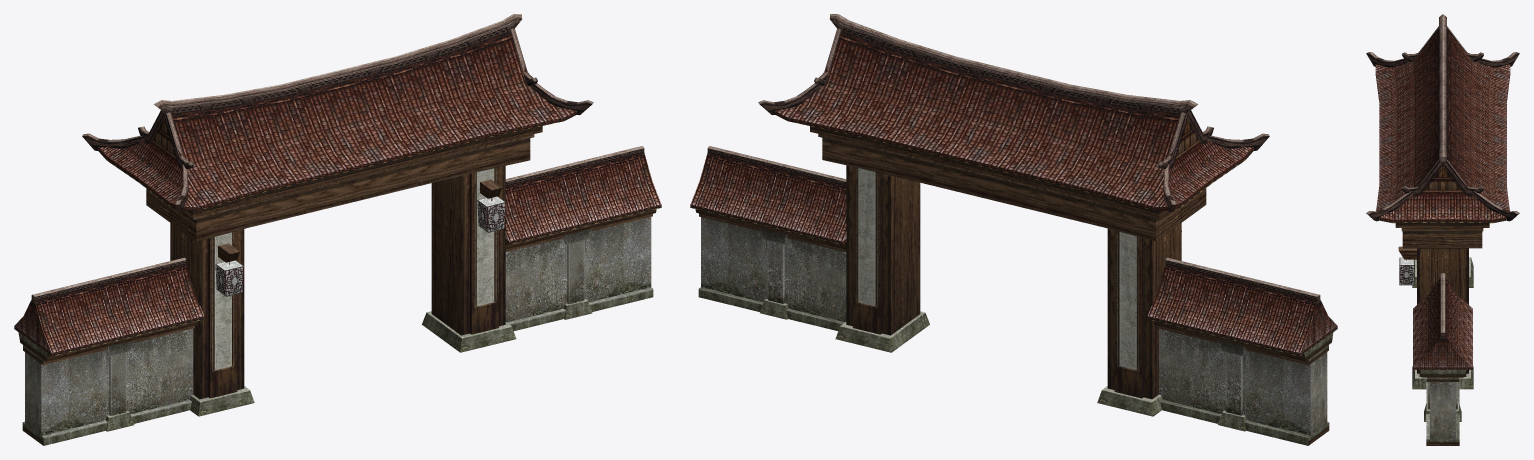
The model's file is a1-038-wall-door.fbx.
3 renders of one model, left to right at view 1: azimuth 30°, elevation 25°; view 2: azimuth 150°, elevation 25°; view 3: azimuth 270°, elevation 25°, orthographic. The views are drawn at different scales.
Parts seen in each view (by area): view 1: Object05; view 2: Object05; view 3: Object05.
Part boxes in pixels (x1,y1,x2,y2): Object05: (14,14,661,445); Object05: (690,14,1337,445); Object05: (1366,14,1519,445).
Size of the model in its own units: 20 by 9.62 by 5.49.
